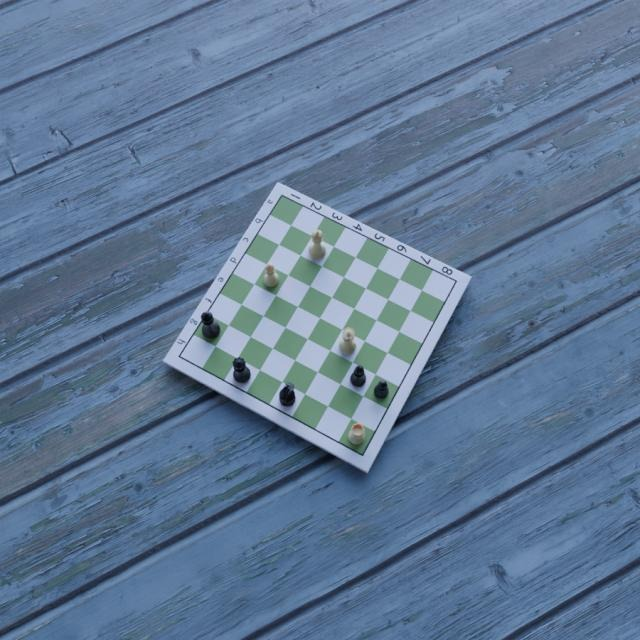black-bishop: (349, 364, 367, 388)
black-king: (199, 310, 220, 340)
black-knight: (278, 381, 296, 407)
black-pawn: (372, 380, 389, 399)
black-queen: (233, 356, 251, 384)
white-bishop: (261, 260, 278, 287)
white-king: (307, 227, 327, 260)
white-queen: (337, 325, 355, 355)
white-rook: (347, 422, 367, 445)
